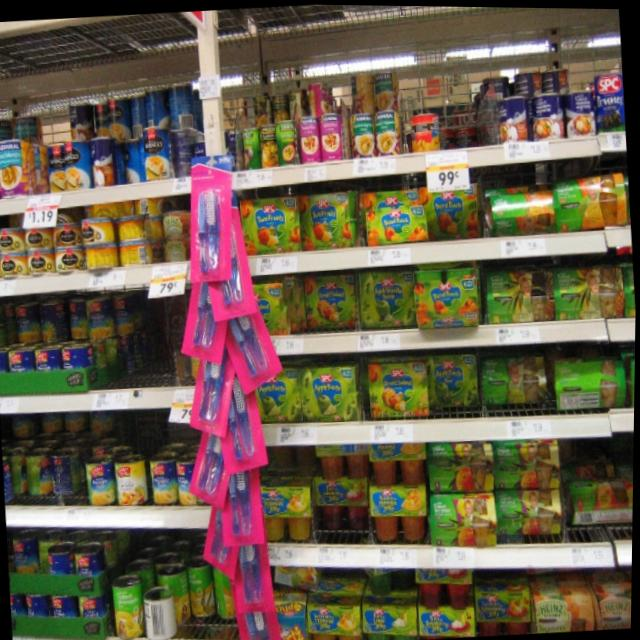q121: (367, 355, 432, 431), (237, 191, 303, 260), (360, 187, 430, 250), (302, 191, 362, 250)
